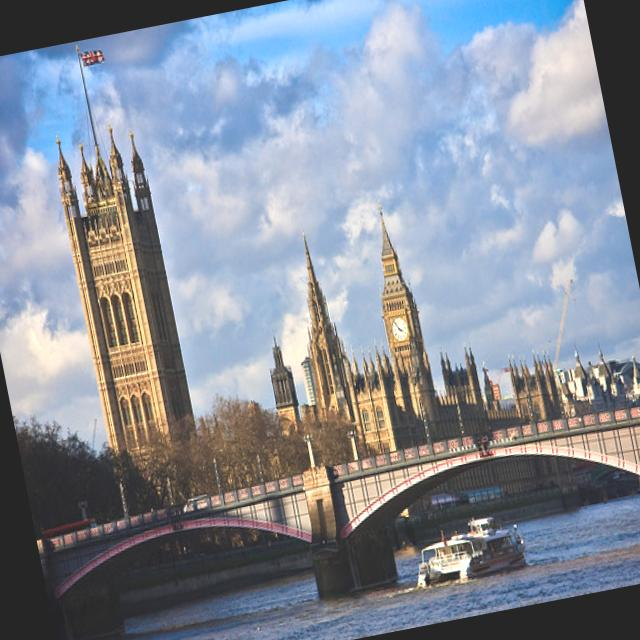Vehicle: (42, 518, 98, 539)
